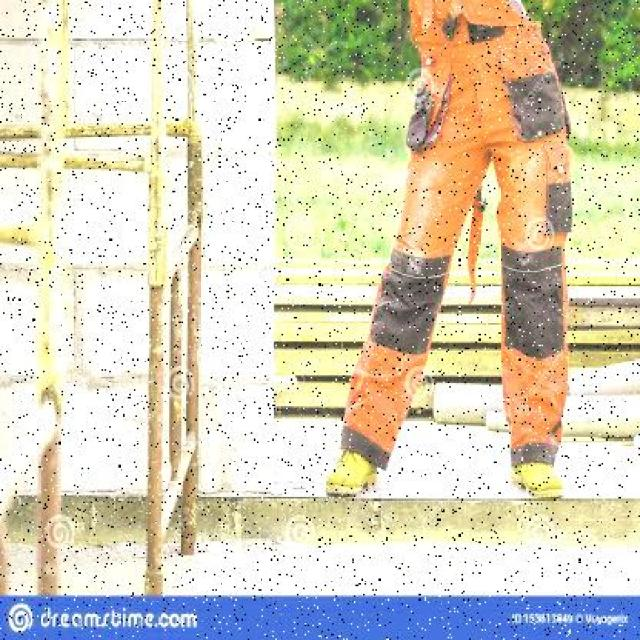shoes: (330, 441, 384, 502), (505, 458, 573, 505)
